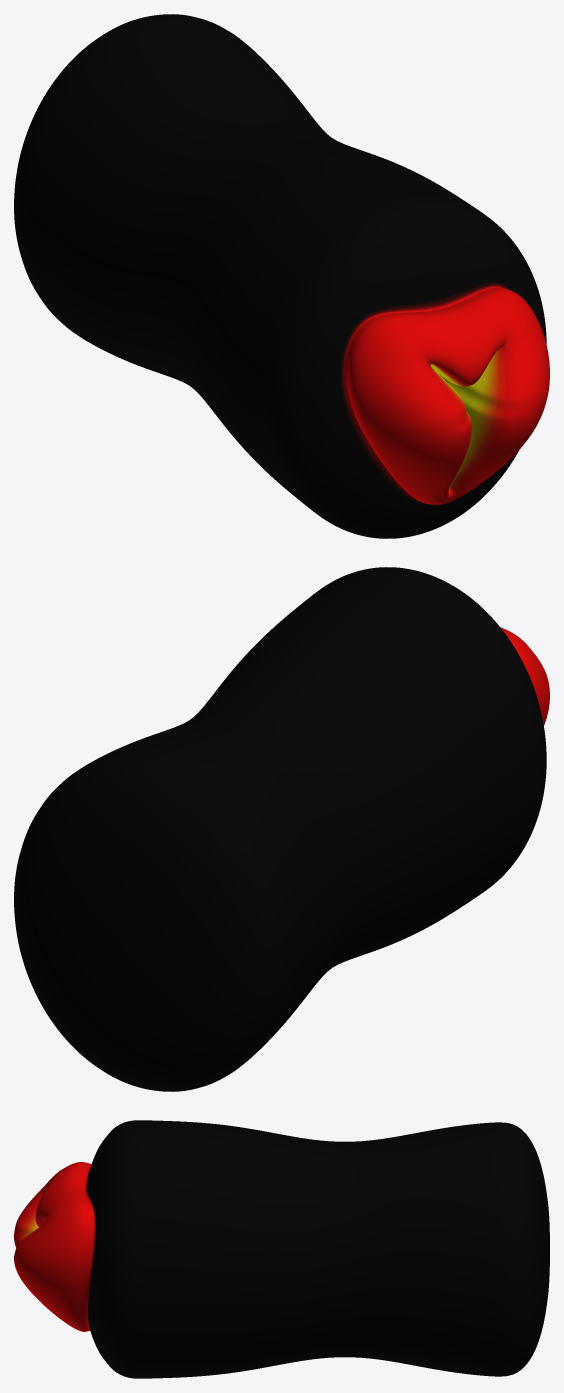
File: Poche_Sablier_Coeur.fbx
The picture shows the model from 3 angles, top to bottom: view 1: azimuth 30°, elevation 25°; view 2: azimuth 150°, elevation 25°; view 3: azimuth 270°, elevation 25°; orthographic projection. The views are drawn at different scales.
Parts seen in each view (by area): view 1: Poche_Sablier_Coeur; view 2: Poche_Sablier_Coeur; view 3: Poche_Sablier_Coeur.
Boxes of the visible parts, bbox=[...] form: Poche_Sablier_Coeur: bbox=[14, 14, 549, 538]; Poche_Sablier_Coeur: bbox=[14, 567, 549, 1091]; Poche_Sablier_Coeur: bbox=[14, 1120, 549, 1378].
Bounding box in the file's own units: 0.1158 × 0.1357 × 0.2745.
